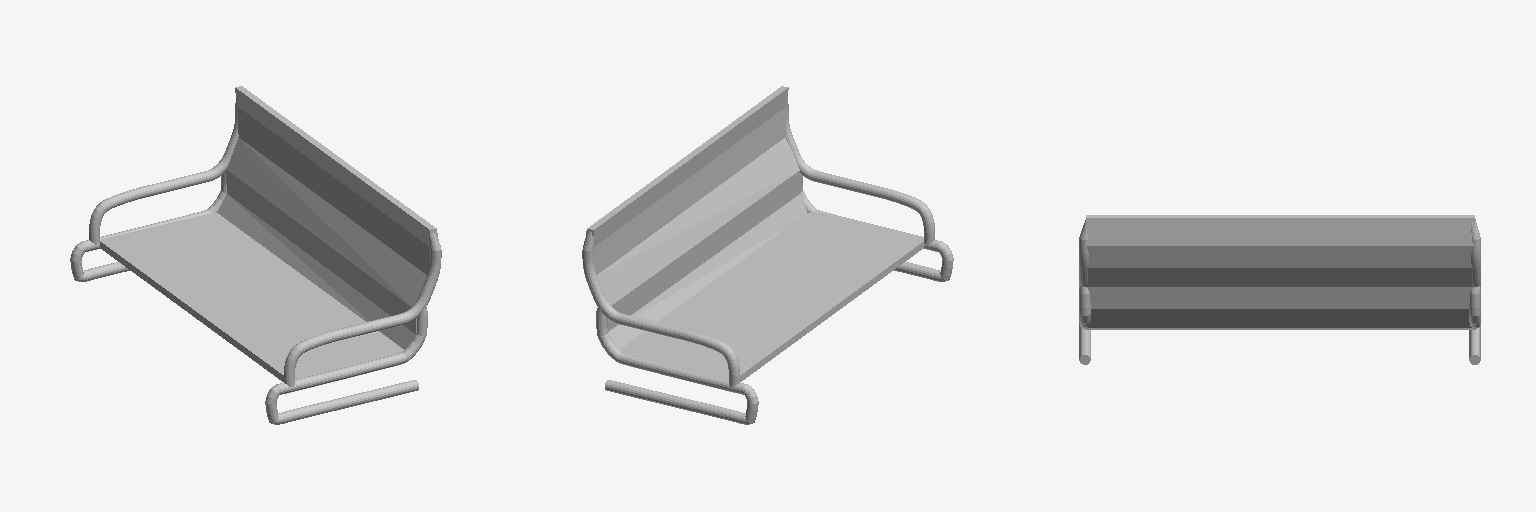
Rendered from Bench.obj.
3 renders of one model, left to right at view 1: azimuth 30°, elevation 25°; view 2: azimuth 150°, elevation 25°; view 3: azimuth 270°, elevation 25°, orthographic.
Parts seen in each view (by area): view 1: Box002, Box001, Cylinder003, Cylinder001; view 2: Box002, Box001, Cylinder001, Cylinder003; view 3: Box002, Cylinder001, Cylinder003, Box001.
Part boxes in pixels (left/top/right/bottom): Box002: left=217, top=86, right=438, bottom=349; Box001: left=100, top=213, right=403, bottom=381; Cylinder003: left=265, top=232, right=441, bottom=424; Cylinder001: left=70, top=94, right=238, bottom=281; Box002: left=586, top=86, right=806, bottom=349; Box001: left=620, top=213, right=923, bottom=381; Cylinder001: left=582, top=231, right=758, bottom=424; Cylinder003: left=785, top=92, right=953, bottom=281; Box002: left=1086, top=215, right=1474, bottom=327; Cylinder001: left=1469, top=219, right=1480, bottom=364; Cylinder003: left=1079, top=220, right=1090, bottom=364; Box001: left=1085, top=328, right=1475, bottom=329.
Size of the model in its own units: 93.89 by 80.74 by 187.